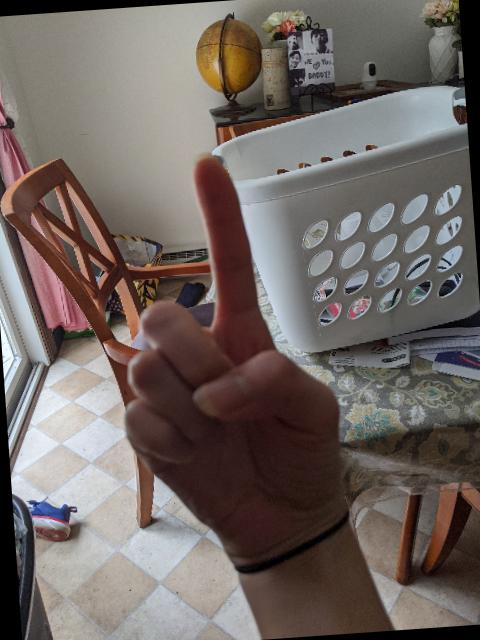D: (101, 140, 354, 568)
